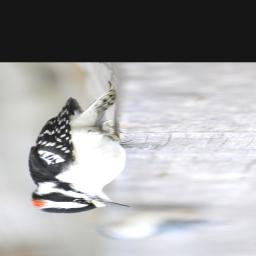Woodpecker: (0, 80, 173, 223)
